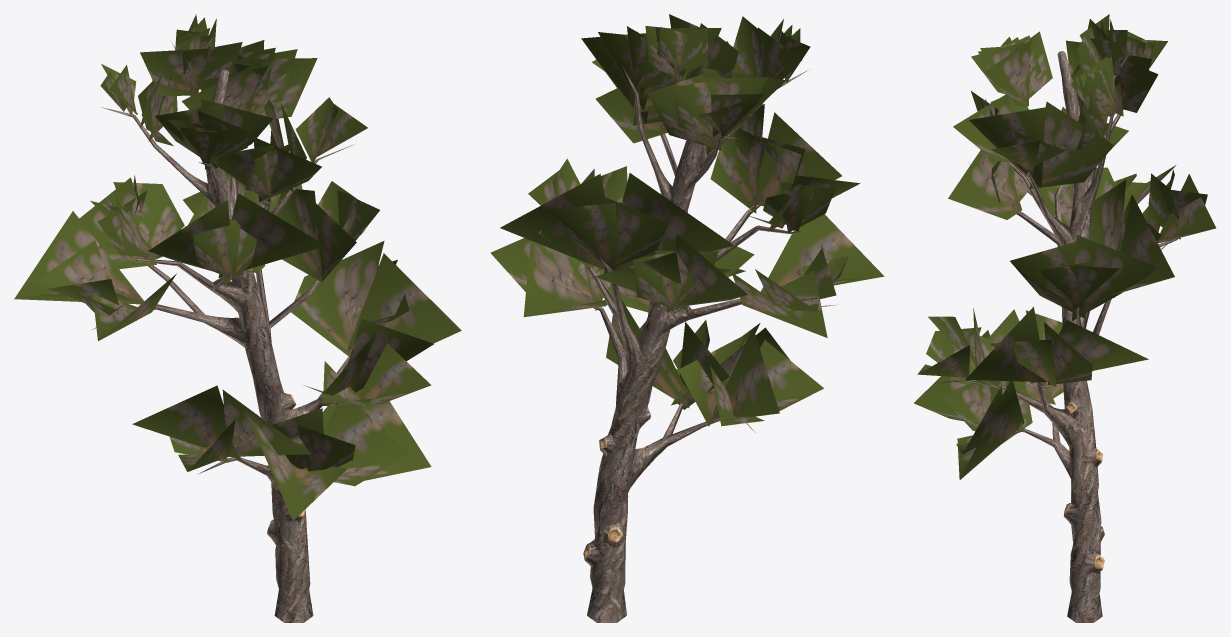
The model's file is old_tree.glb.
The picture shows the model from 3 angles, left to right: view 1: azimuth 30°, elevation 25°; view 2: azimuth 150°, elevation 25°; view 3: azimuth 270°, elevation 25°; orthographic projection. The views are drawn at different scales.
Visible parts, largest first — view 1: tree; view 2: tree; view 3: tree.
Boxes of the visible parts, x1,y1,x2,y2 form: tree: (14,14,461,622); tree: (490,14,884,622); tree: (914,14,1215,622).
Size of the model in its own units: 5.18 by 8.42 by 4.18.
Materials: 3 (3 with a texture image).
